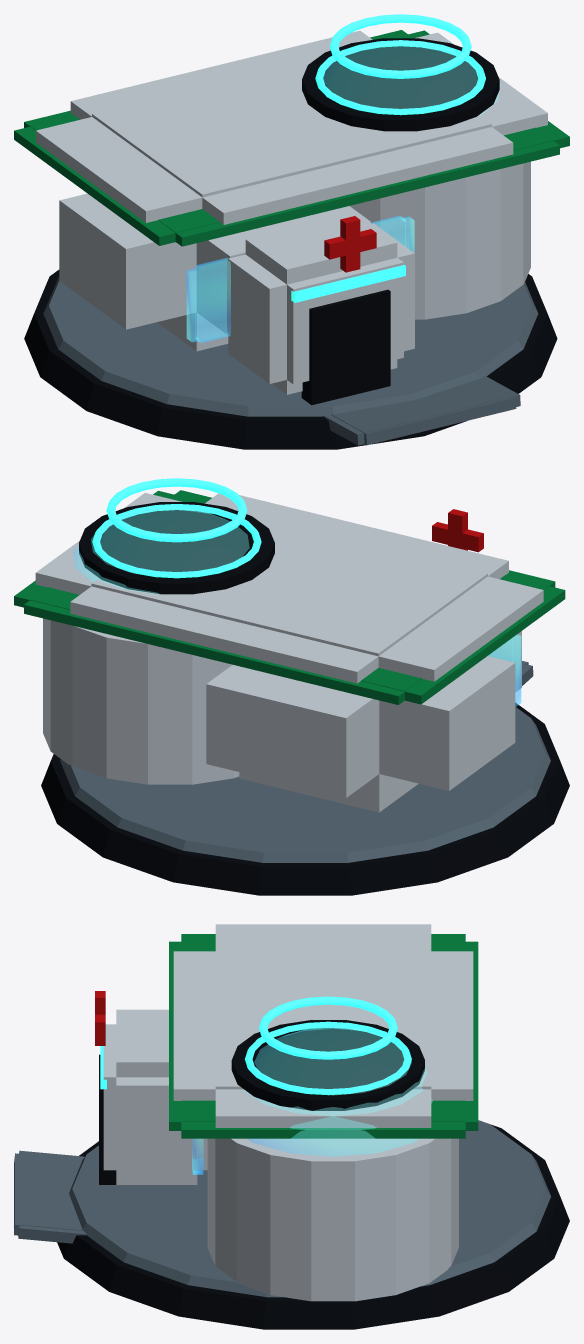
File: earth_medical_pavilion.glb
3 views of the same model, one above another, from view 1: azimuth 30°, elevation 25°; view 2: azimuth 150°, elevation 25°; view 3: azimuth 270°, elevation 25° (orthographic). The views are drawn at different scales.
Visible parts, largest first — view 1: MedicalPavilionBody, MedicalPavilionGlass, MedicalPavilionGlow, MedHaloRing; view 2: MedicalPavilionBody, MedicalPavilionGlass, MedHaloRing, MedicalPavilionGlow; view 3: MedicalPavilionBody, MedicalPavilionGlass, MedHaloRing, MedicalPavilionGlow.
Part boxes in pixels (left/top/right/bottom): MedicalPavilionBody: left=14, top=30, right=569, bottom=449; MedicalPavilionGlass: left=186, top=40, right=500, bottom=342; MedicalPavilionGlow: left=291, top=40, right=485, bottom=302; MedHaloRing: left=329, top=14, right=471, bottom=78; MedicalPavilionBody: left=14, top=490, right=569, bottom=895; MedicalPavilionGlass: left=73, top=508, right=521, bottom=706; MedHaloRing: left=106, top=478, right=247, bottom=542; MedicalPavilionGlow: left=92, top=504, right=261, bottom=578; MedicalPavilionBody: left=14, top=924, right=569, bottom=1329; MedicalPavilionGlass: left=192, top=1026, right=432, bottom=1174; MedHaloRing: left=259, top=996, right=397, bottom=1059; MedicalPavilionGlow: left=100, top=1021, right=411, bottom=1095.
Size of the model in its own units: 10.78 by 5.8 by 11.51.
